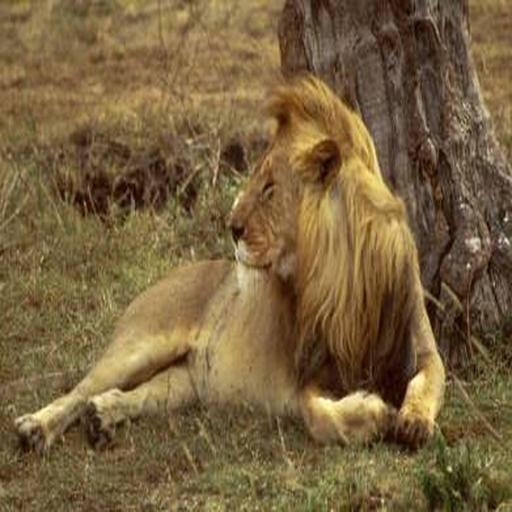Lion: (0, 72, 456, 453)
